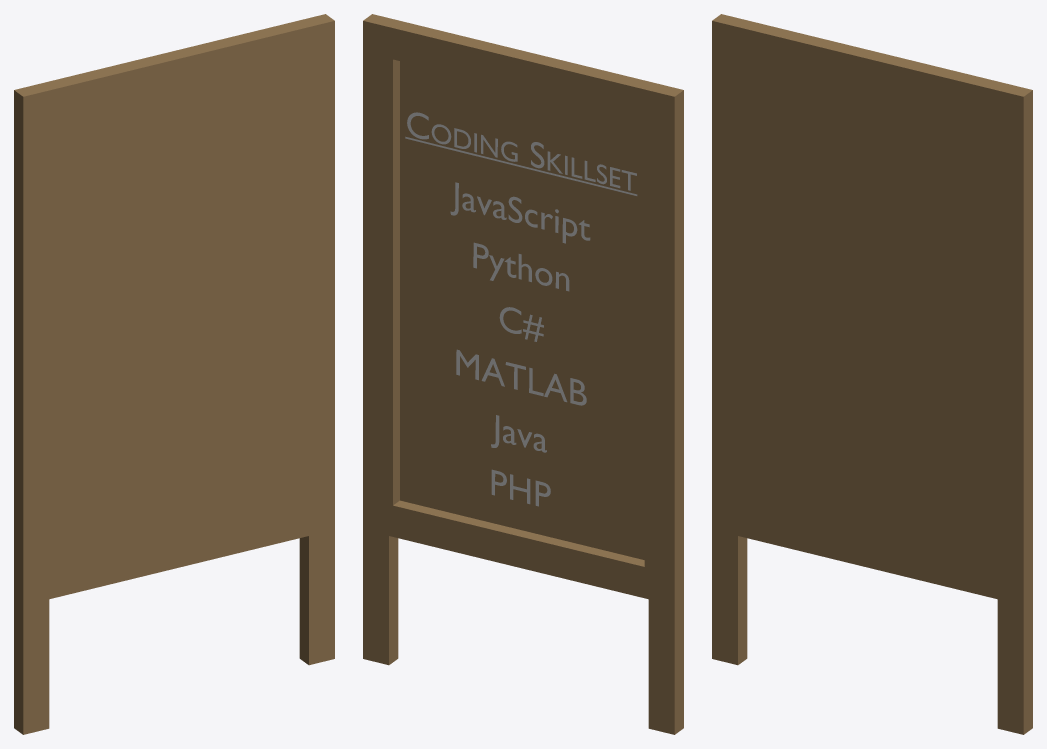
File: board1.gltf
3 views of the same model, side by side, from view 1: azimuth 30°, elevation 25°; view 2: azimuth 150°, elevation 25°; view 3: azimuth 330°, elevation 25° (orthographic).
Visible parts, largest first — view 1: MenuBoardPoly; view 2: MenuBoardPoly, Text.003, Text; view 3: MenuBoardPoly.
Part boxes in pixels (bbox=[...]): MenuBoardPoly: bbox=[14, 14, 334, 734]; MenuBoardPoly: bbox=[363, 14, 683, 734]; Text.003: bbox=[450, 182, 590, 506]; Text: bbox=[405, 112, 637, 195]; MenuBoardPoly: bbox=[712, 14, 1032, 734].
Bounding box in the file's own units: 1.99 × 3.9 × 0.1026.
